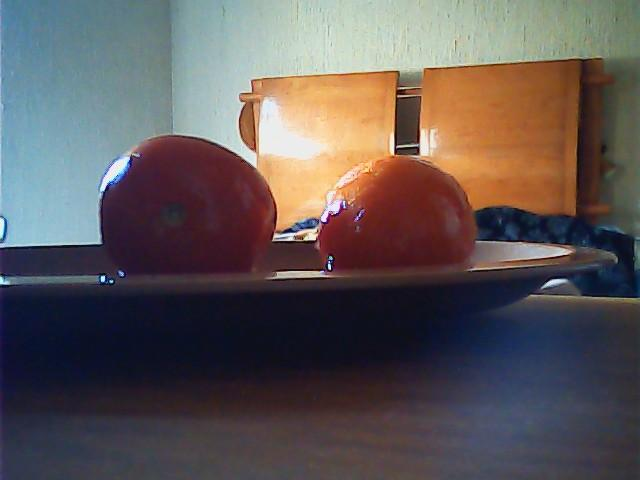maduro: (101, 133, 276, 269), (315, 152, 479, 272)
